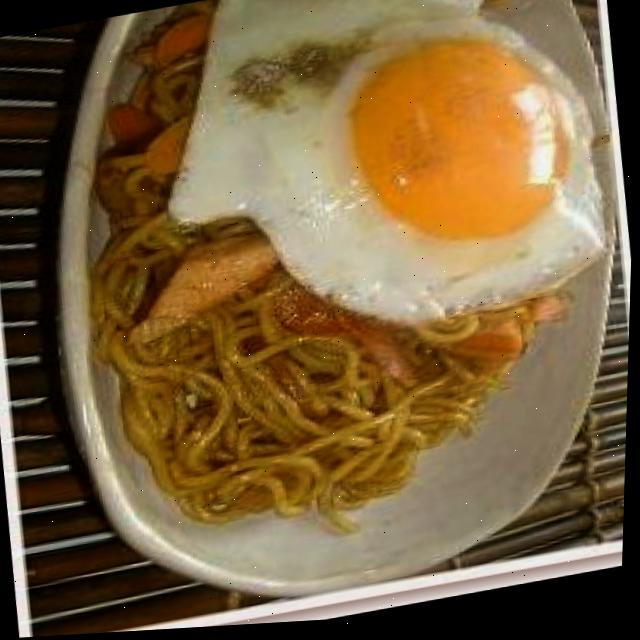鸡蛋料理: (156, 0, 629, 365)
